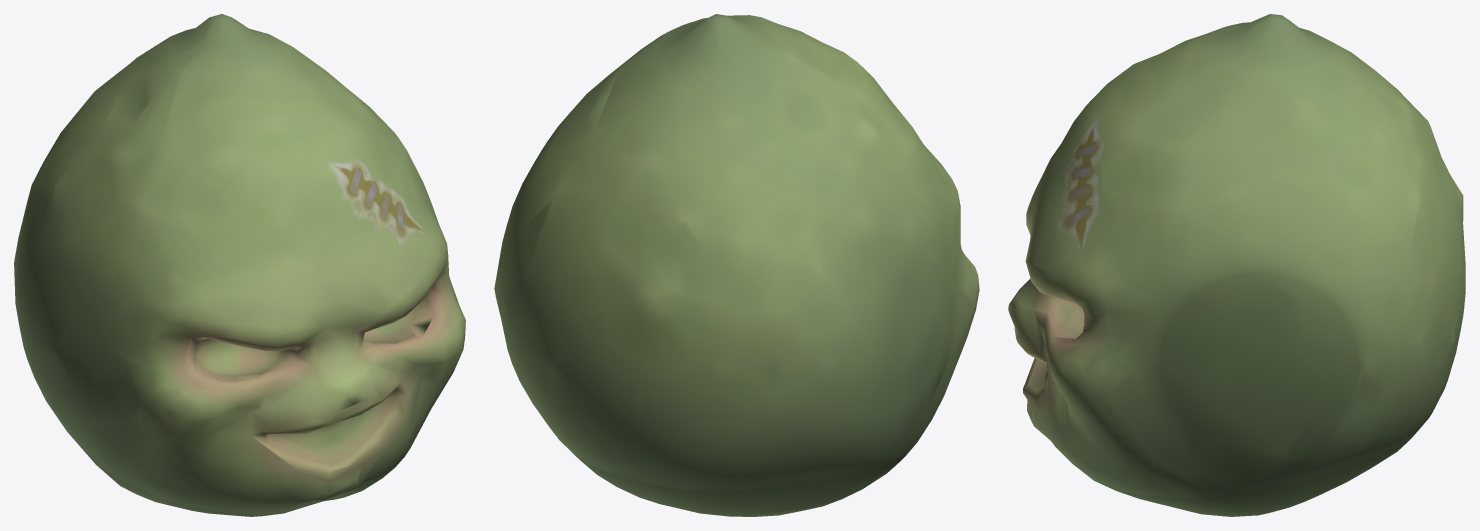
Rendered from ARM1_Head_Z01.glb.
3 renders of one model, left to right at view 1: azimuth 30°, elevation 25°; view 2: azimuth 150°, elevation 25°; view 3: azimuth 270°, elevation 25°, orthographic. The views are drawn at different scales.
Parts seen in each view (by area): view 1: ARM1_Head_Z01; view 2: ARM1_Head_Z01; view 3: ARM1_Head_Z01.
Part boxes in pixels (box(x1,y1,x2,y2)): ARM1_Head_Z01: box(14, 14, 465, 516); ARM1_Head_Z01: box(494, 14, 979, 516); ARM1_Head_Z01: box(1008, 14, 1465, 516).
Size of the model in its own units: 0.738 by 0.8994 by 0.7875.
Materials: 1 (1 with a texture image).
